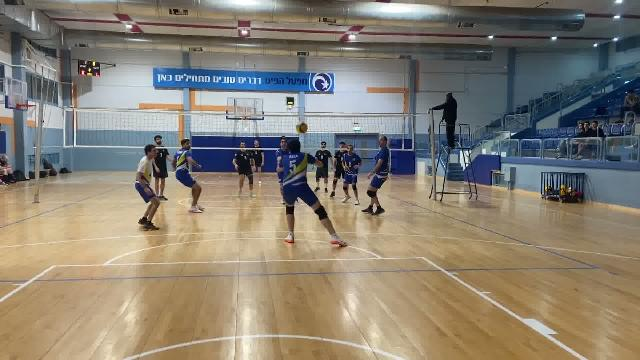ball: (295, 119, 312, 135)
